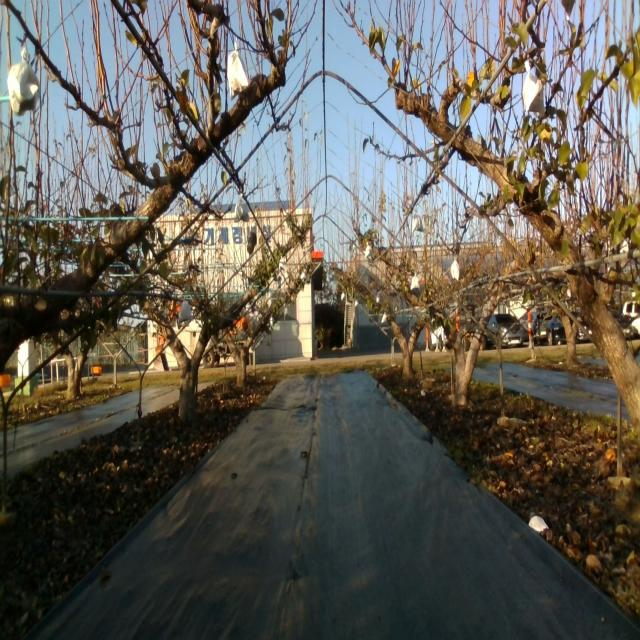pearbags: (6, 47, 42, 116), (226, 40, 250, 96), (523, 58, 545, 111), (233, 190, 250, 223), (178, 299, 194, 322), (412, 206, 424, 232)
